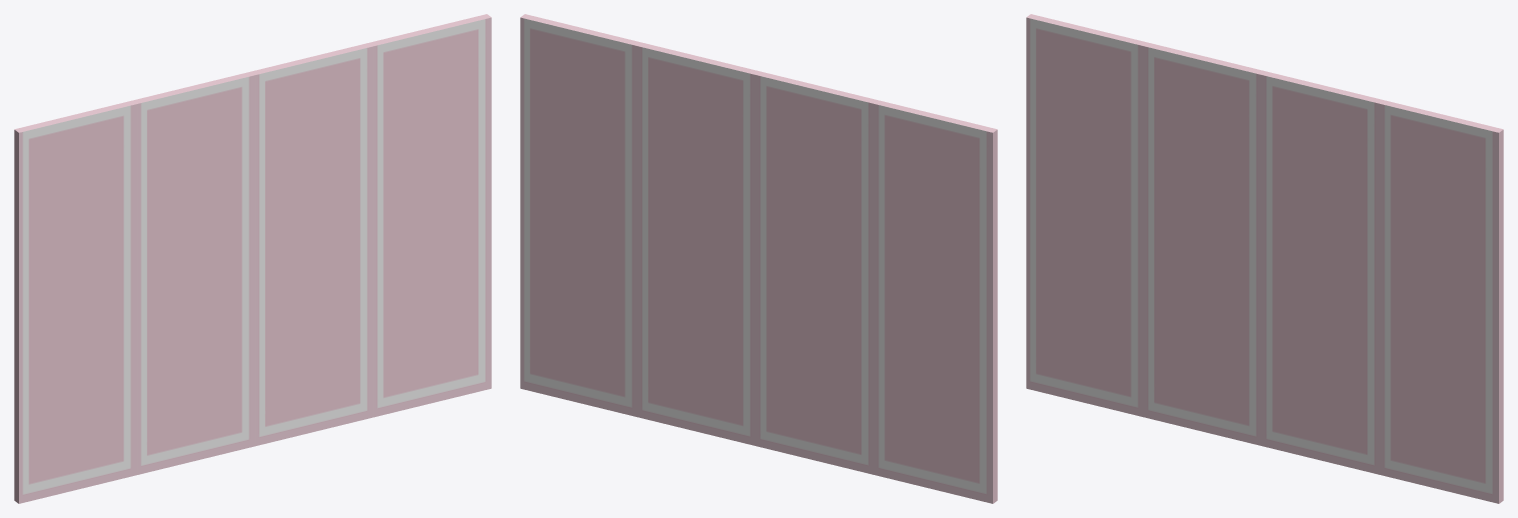
File: Wall_Pink_4-4m.fbx
3 views of the same model, side by side, from view 1: azimuth 30°, elevation 25°; view 2: azimuth 150°, elevation 25°; view 3: azimuth 330°, elevation 25° (orthographic).
Parts seen in each view (by area): view 1: Wall_Pink_4-4m; view 2: Wall_Pink_4-4m; view 3: Wall_Pink_4-4m.
Part boxes in pixels (x1,y1,x2,y2): Wall_Pink_4-4m: (14,14,491,503); Wall_Pink_4-4m: (520,14,997,503); Wall_Pink_4-4m: (1026,14,1503,503).
Bounding box in the file's own units: 400 × 300 × 7.
